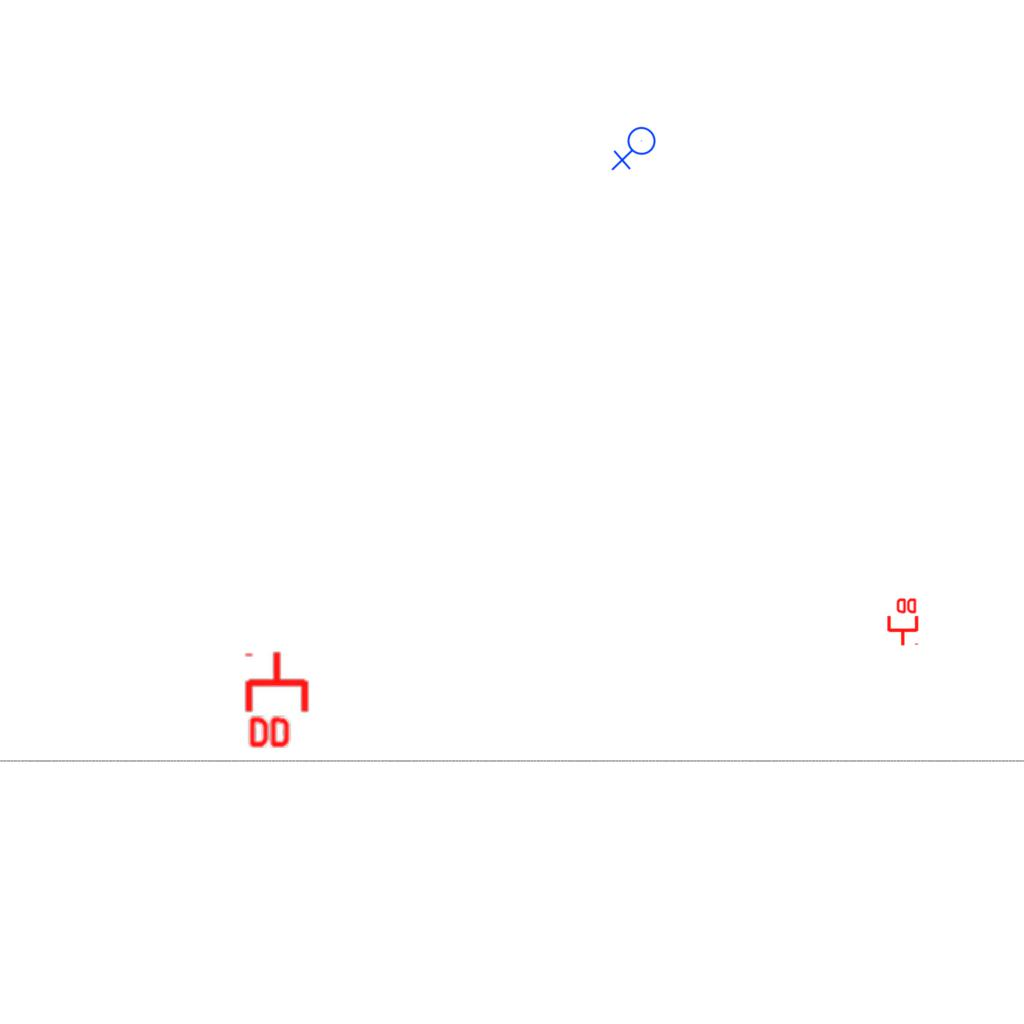Datenanschluss_zweifach: (244, 649, 313, 752), (885, 596, 919, 647)
Elektroanschluss_allgemein_230V_Geraeteanschlussdose_230V: (611, 126, 660, 173)
